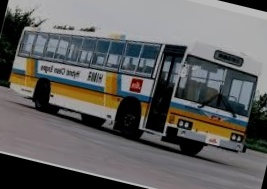bus: (4, 4, 267, 170)
